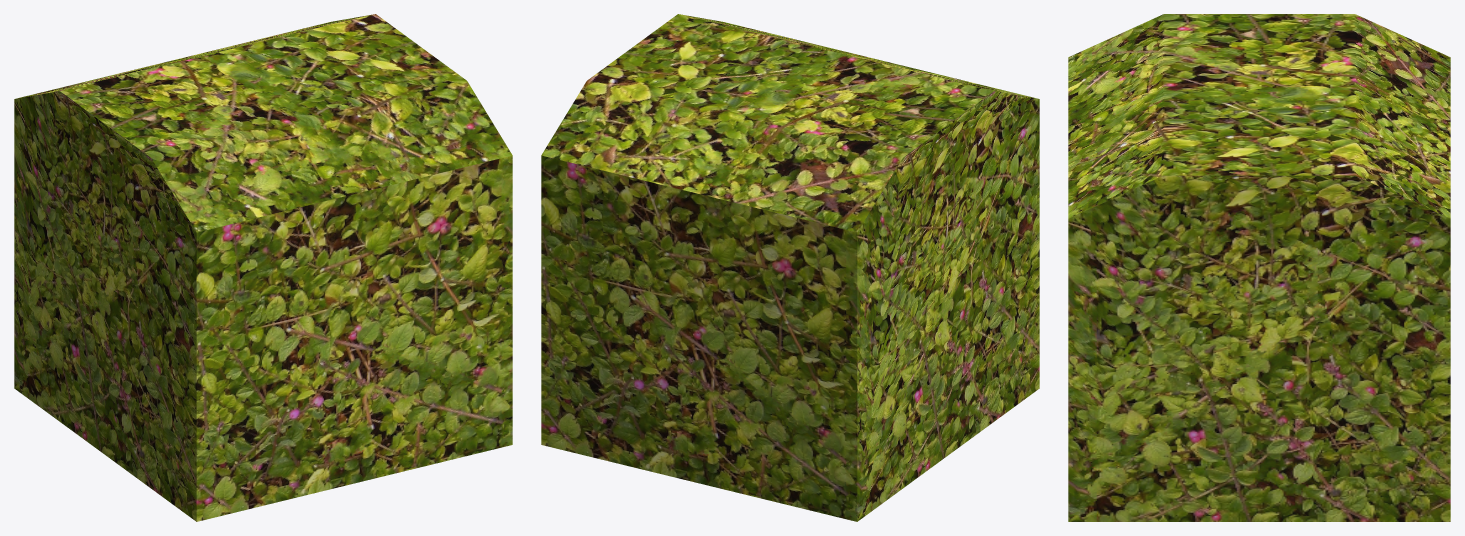
The model's file is hedge.glb.
3 views of the same model, side by side, from view 1: azimuth 30°, elevation 25°; view 2: azimuth 150°, elevation 25°; view 3: azimuth 270°, elevation 25° (orthographic). The views are drawn at different scales.
Visible parts, largest first — view 1: Hedge; view 2: Hedge; view 3: Hedge.
Boxes of the visible parts, left/top/right/bottom form: Hedge: left=14, top=14, right=512, bottom=521; Hedge: left=541, top=14, right=1039, bottom=521; Hedge: left=1068, top=14, right=1450, bottom=521.
Bounding box in the file's own units: 2 × 2 × 2.
1 material, 1 textured.
